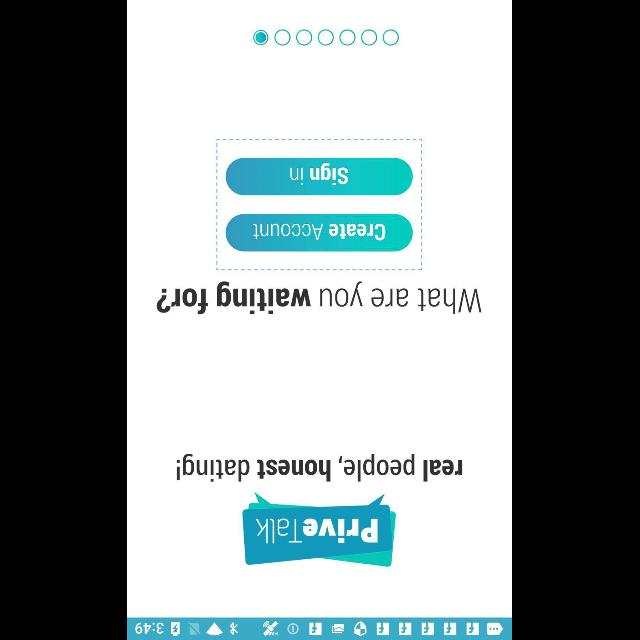image: (243, 492, 397, 568)
pageindicator: (252, 28, 400, 46)
text: (156, 281, 482, 315), (175, 453, 463, 482)
textbutton: (226, 214, 414, 252), (226, 158, 414, 196)
uppertaskbar: (128, 617, 512, 639)
